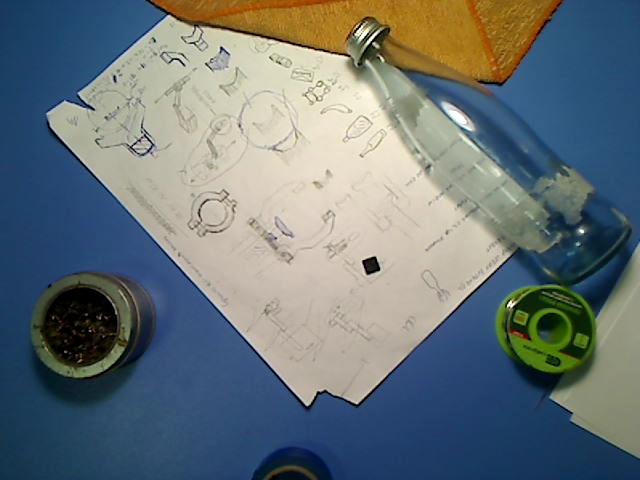bottle: (344, 16, 635, 286)
